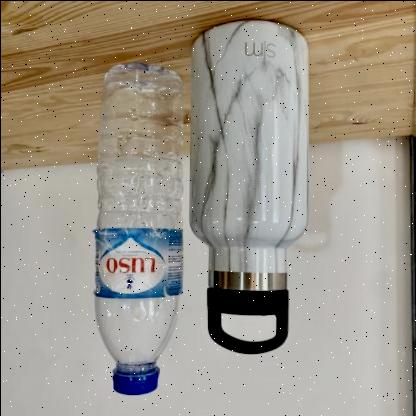Plastic Bottle: (93, 62, 182, 395)
